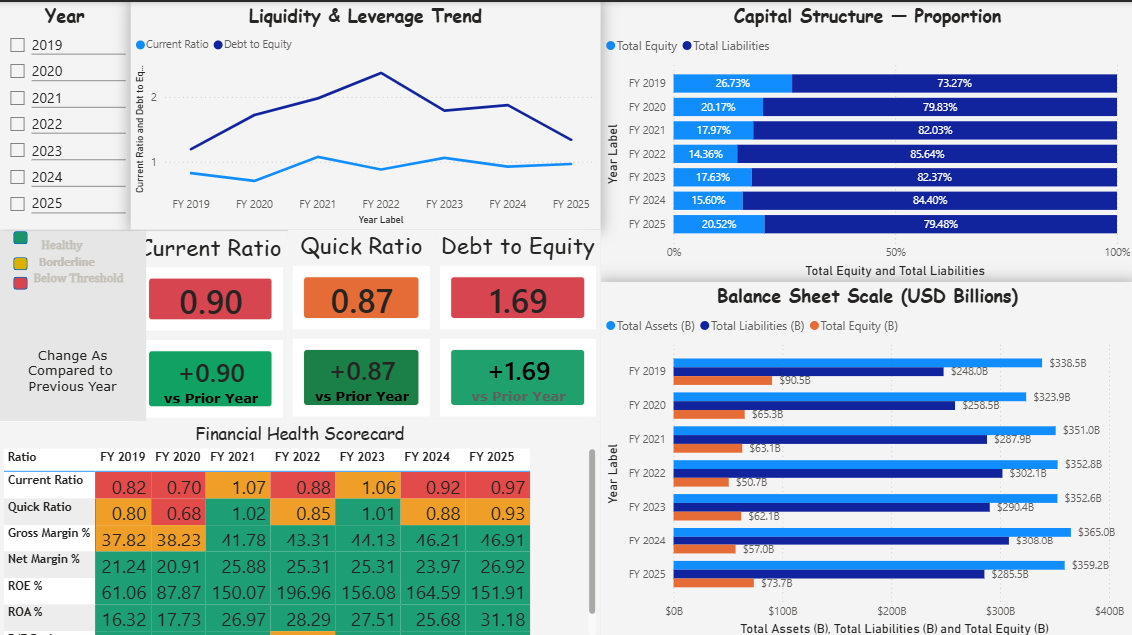

What the dashboard file says about the page in this screenshot:
{"tool":"powerbi","page":{"name":" Balance Sheet & Financial Health","canvas":[1280,720],"ordinal":2},"visuals":[{"type":"hundredPercentStackedBarChart","title":"Capital Structure — Proportion","fields":{"Y":["_Measures.Total Equity","_Measures.Total Liabilities"],"Category":["Dim_Date.Year Label"]},"box":[678,0,601.7,315.5],"z":0},{"type":"slicer","title":"Year","fields":{"Values":["Dim_Date.Year"]},"box":[0,0,148.2,256.8],"z":1000},{"type":"clusteredBarChart","title":"Balance Sheet Scale (USD Billions)","fields":{"Category":["Dim_Date.Year Label"],"Y":["_Measures.Total Assets (B)","_Measures.Total Liabilities (B)","_Measures.Total Equity (B)"]},"box":[678,315.5,601.7,405],"z":2000},{"type":"lineChart","title":"Liquidity & Leverage Trend","fields":{"Y":["_Measures.Current Ratio","_Measures.Debt to Equity"],"Category":["Dim_Date.Year Label"]},"box":[148.2,0,529.7,256.8],"z":3000},{"type":"cardVisual","title":"Current Ratio","fields":{"Data":["_Measures.Current Ratio"]},"box":[151.1,258.3,174.6,117.4],"z":4000},{"type":"cardVisual","fields":{"Data":["_Measures.Current Ratio Change"]},"box":[151.1,375.7,174.6,98.3],"z":5000},{"type":"cardVisual","title":"Quick Ratio","fields":{"Data":["_Measures.Quick Ratio"]},"box":[325.8,256.8,165.8,117.4],"z":6000},{"type":"cardVisual","fields":{"Data":["_Measures.Quick Ratio Change"]},"box":[325.8,374.2,165.8,98.3],"z":7000},{"type":"cardVisual","title":"Debt to Equity","fields":{"Data":["_Measures.Debt to Equity"]},"box":[491.6,256.8,186.4,117.4],"z":8000},{"type":"cardVisual","fields":{"Data":["_Measures.D/E Change"]},"box":[491.6,374.2,186.4,98.3],"z":9000},{"type":"pivotTable","title":"Financial Health Scorecard","fields":{"Rows":["Ratio_Table.Ratio"],"Columns":["Dim_Date.Year Label"],"Values":["Ratio_Table.Ratio Value"]},"box":[0,472.5,678,248],"z":10000},{"type":"textbox","box":[0,258.3,165.8,89.5],"z":11000},{"type":"shape","box":[16.1,309.6,16.1,14.7],"z":12000},{"type":"shape","box":[16.1,258.3,16.1,14.7],"z":13000},{"type":"shape","box":[16.1,287.6,16.1,14.7],"z":14000},{"type":"textbox","box":[0,347.8,165.8,124.7],"z":15000}]}

Visuals, with their boxes in screenshot pixels (x1, y1, x2, y2), scaled from the page's 1280x720 canvas onto the 1132x635 screenshot:
"Capital Structure — Proportion" hundredPercentStackedBarChart: [left=600, top=0, right=1131, bottom=278]
"Year" slicer: [left=0, top=0, right=131, bottom=226]
"Balance Sheet Scale (USD Billions)" clusteredBarChart: [left=600, top=278, right=1131, bottom=634]
"Liquidity & Leverage Trend" lineChart: [left=131, top=0, right=600, bottom=226]
"Current Ratio" cardVisual: [left=134, top=228, right=288, bottom=331]
cardVisual - _Measures.Current Ratio Change: [left=134, top=331, right=288, bottom=418]
"Quick Ratio" cardVisual: [left=288, top=226, right=435, bottom=330]
cardVisual - _Measures.Quick Ratio Change: [left=288, top=330, right=435, bottom=417]
"Debt to Equity" cardVisual: [left=435, top=226, right=600, bottom=330]
cardVisual - _Measures.D/E Change: [left=435, top=330, right=600, bottom=417]
"Financial Health Scorecard" pivotTable: [left=0, top=417, right=600, bottom=634]
textbox: [left=0, top=228, right=147, bottom=307]
shape: [left=14, top=273, right=28, bottom=286]
shape: [left=14, top=228, right=28, bottom=241]
shape: [left=14, top=254, right=28, bottom=267]
textbox: [left=0, top=307, right=147, bottom=417]
